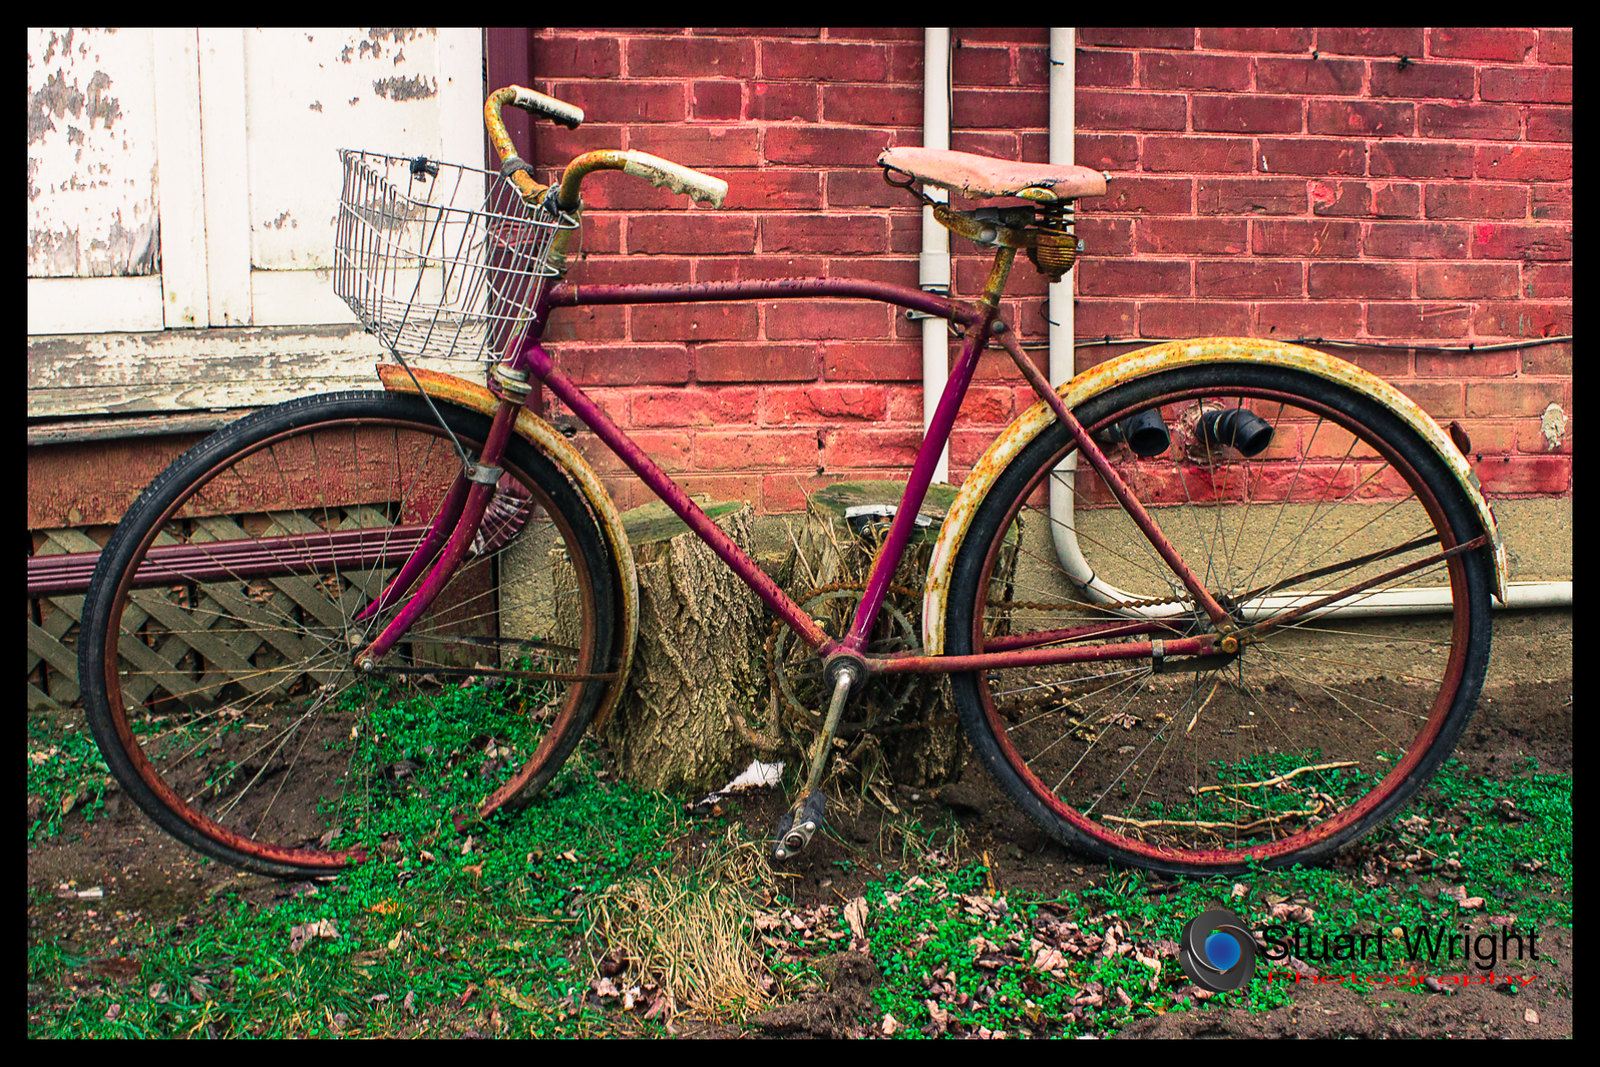bicycle: (74, 80, 1489, 903)
